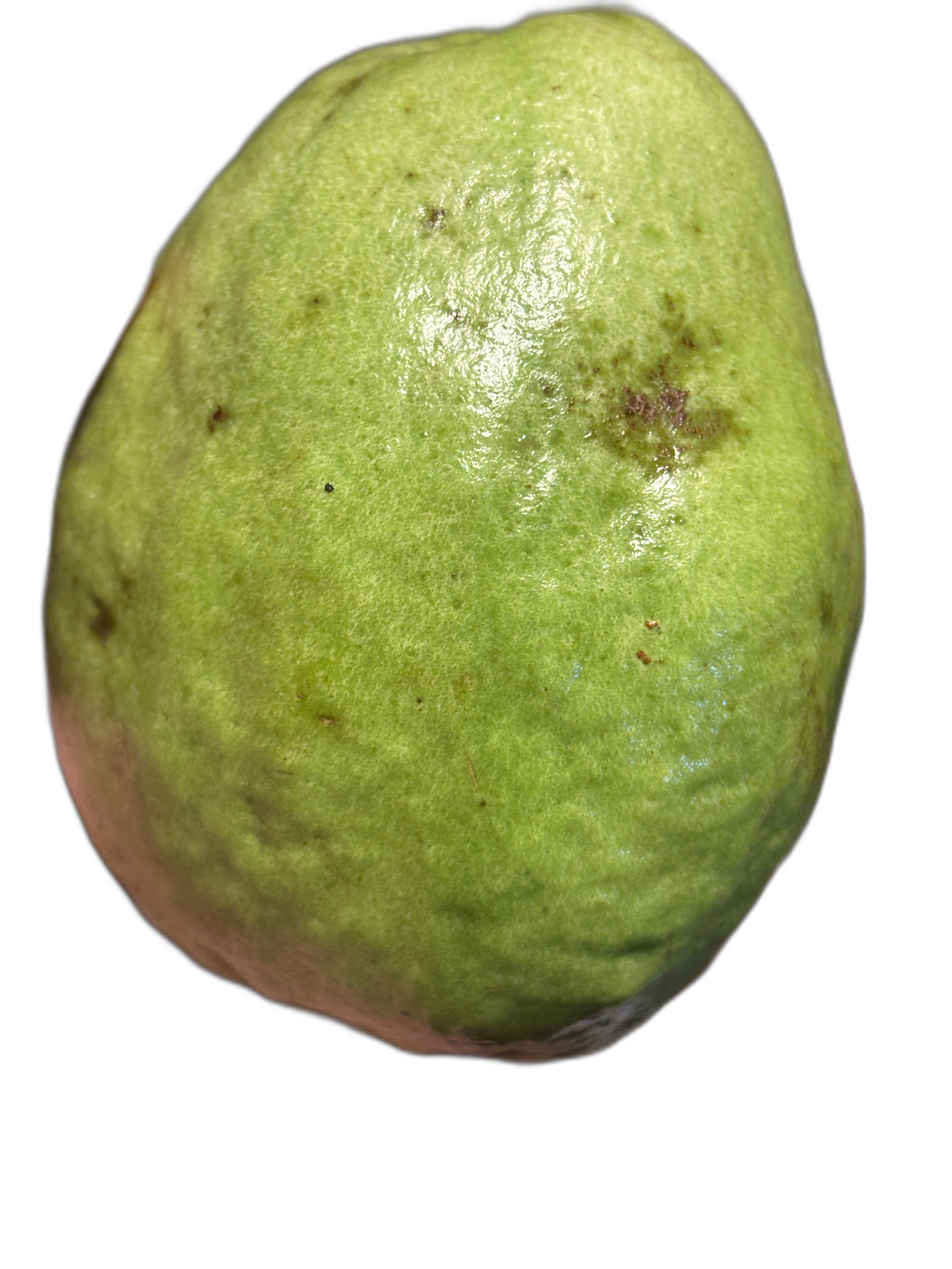guava: (123, 125, 940, 954)
